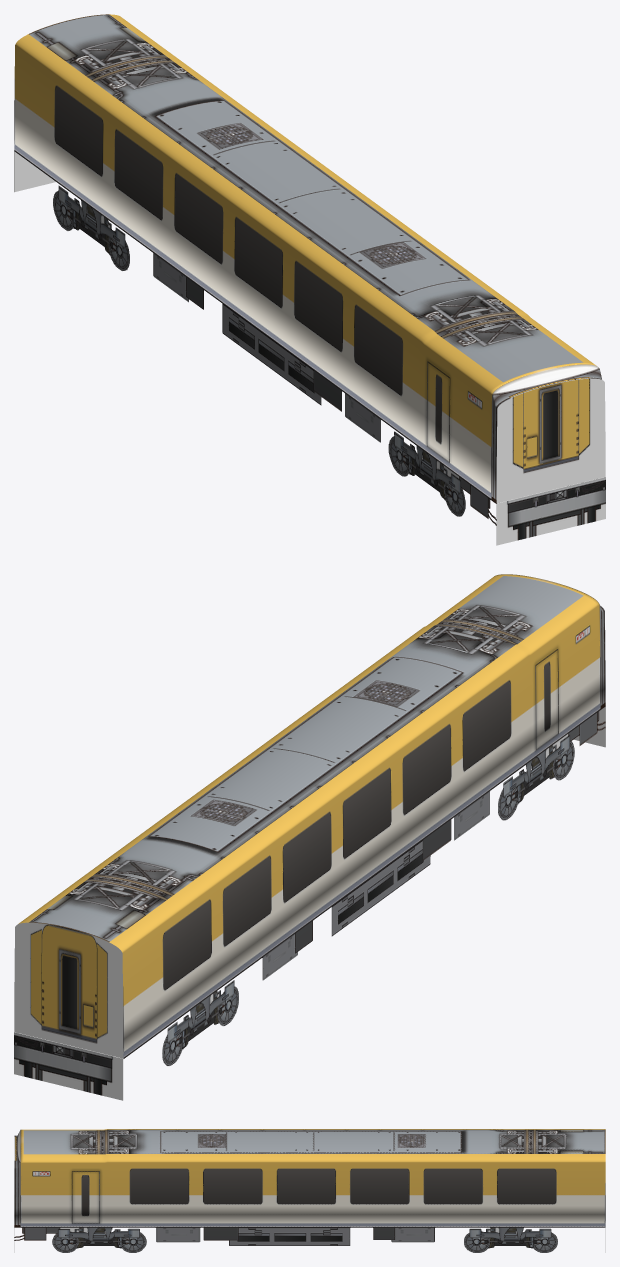
Rendered from car2.glb.
The picture shows the model from 3 angles, top to bottom: view 1: azimuth 30°, elevation 25°; view 2: azimuth 150°, elevation 25°; view 3: azimuth 270°, elevation 25°; orthographic projection. The views are drawn at different scales.
Visible parts, largest first — view 1: kintetsu-23000-car2; view 2: kintetsu-23000-car2; view 3: kintetsu-23000-car2.
Boxes of the visible parts, x1,y1,x2,y2 form: kintetsu-23000-car2: (14,14,605,545); kintetsu-23000-car2: (14,574,605,1100); kintetsu-23000-car2: (14,1129,605,1252).
Bounding box in the file's own units: 2.8 × 3.89 × 21.47.
Materials: 8 (7 with a texture image).
